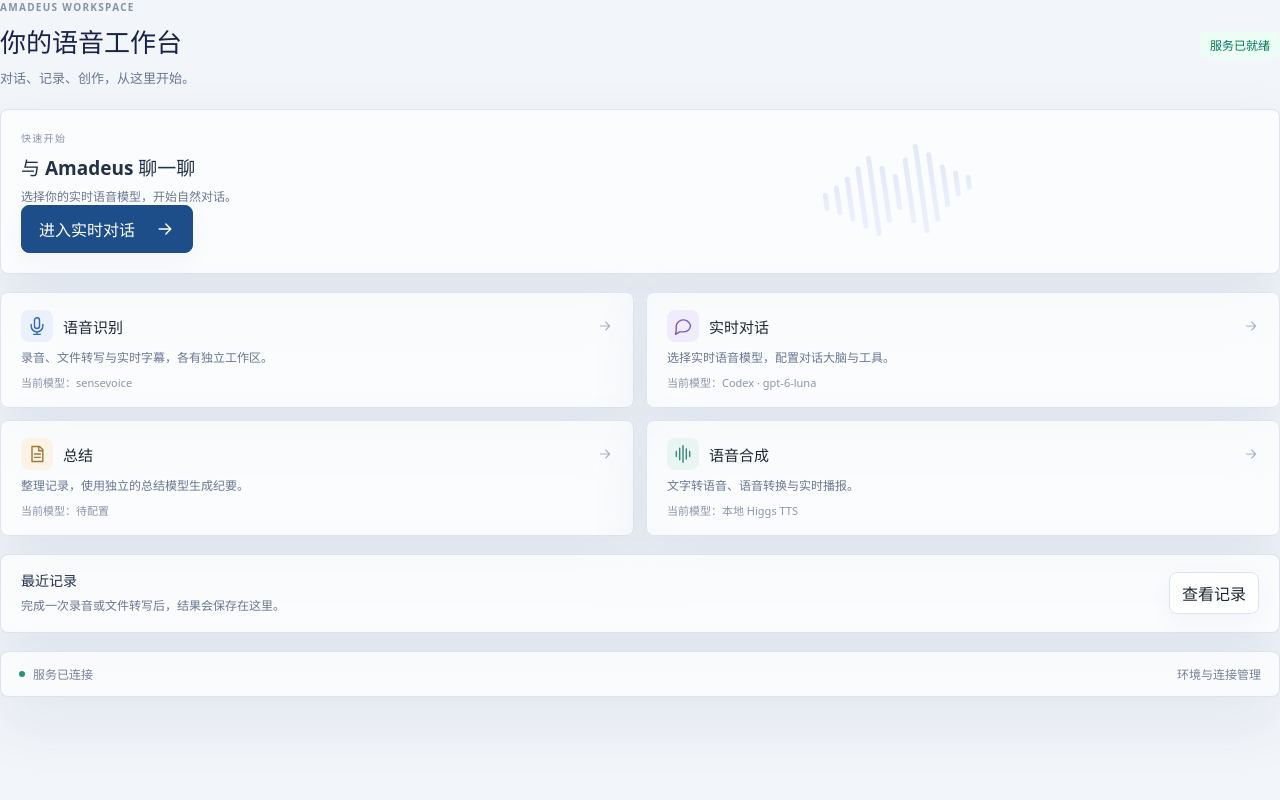
Test: workspace shell › collapses connected environment controls and never reinstalls or restarts on navigation
Click the heading "服务已连接 环境与连接管理": [63, 674] box x1=19 y1=666 x2=1261 y2=683
(page scrolled)
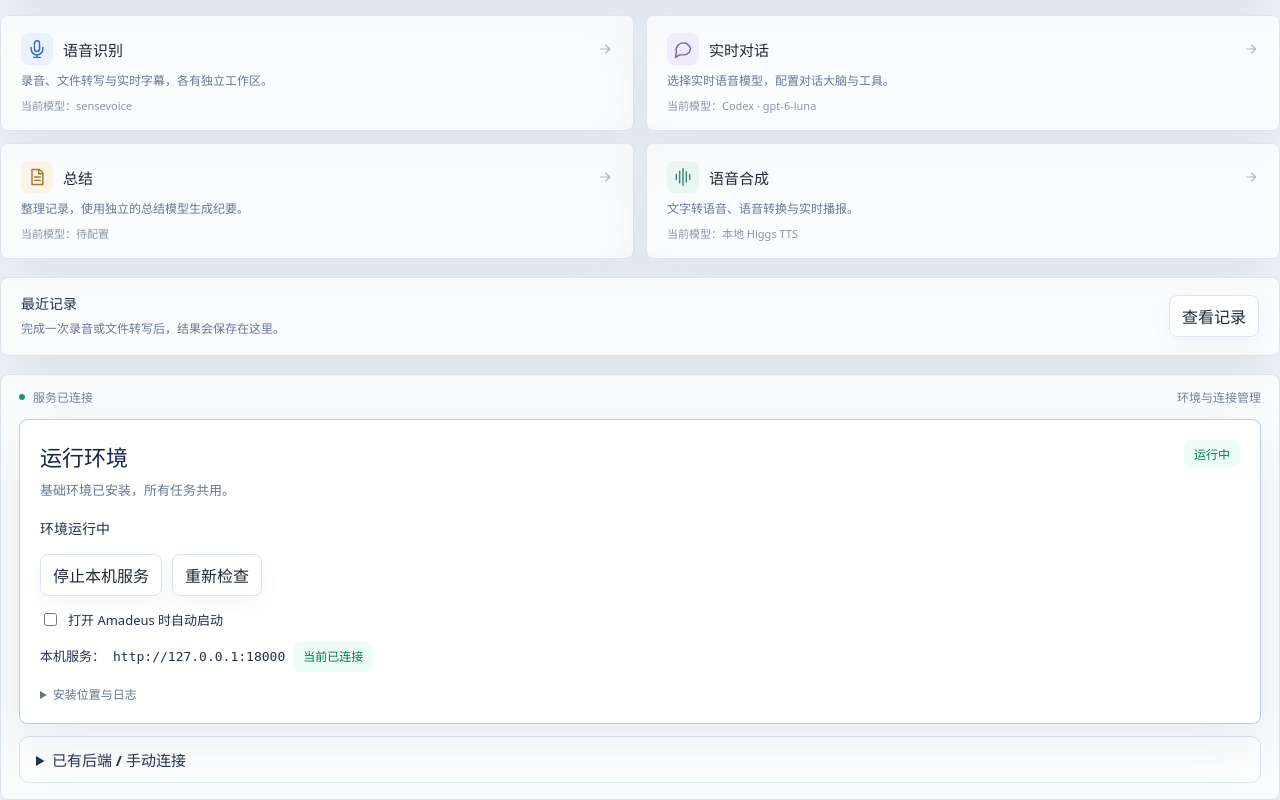
Result: the button "停止本机服务" is shown at x1=40 y1=554 x2=162 y2=596
